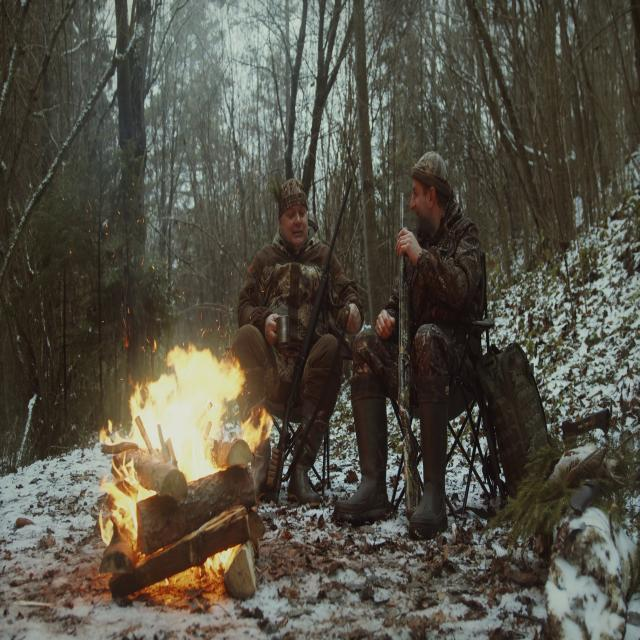Fire: (91, 324, 273, 578)
